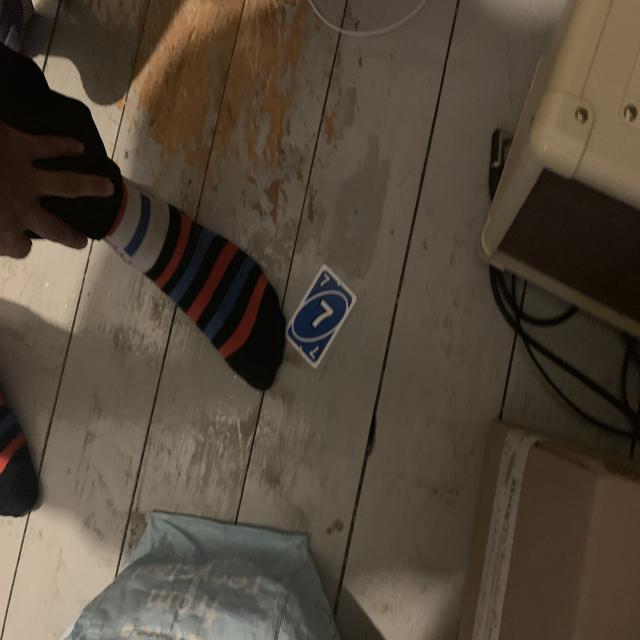lblue-7: (318, 272, 332, 288)
